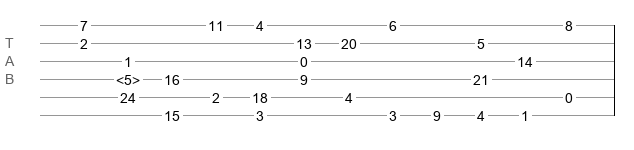0: (300, 54, 308, 64), (565, 90, 573, 100)
1: (124, 54, 132, 64), (521, 108, 529, 118)
11: (208, 18, 224, 28)
13: (296, 36, 312, 46)
14: (517, 54, 533, 64)
15: (164, 108, 180, 118)
16: (164, 72, 180, 82)
18: (252, 90, 268, 100)
2: (80, 36, 88, 46), (212, 90, 220, 100)
20: (341, 36, 357, 46)
21: (473, 72, 489, 82)
24: (120, 90, 136, 100)
3: (256, 108, 264, 118), (389, 108, 397, 118)
4: (256, 18, 264, 28), (345, 90, 353, 100), (477, 108, 485, 118)
5: (477, 36, 485, 46)
6: (389, 18, 397, 28)
7: (80, 18, 88, 28)
8: (565, 18, 573, 28)
9: (300, 72, 308, 82), (433, 108, 441, 118)
harmonic: (116, 72, 140, 82)
